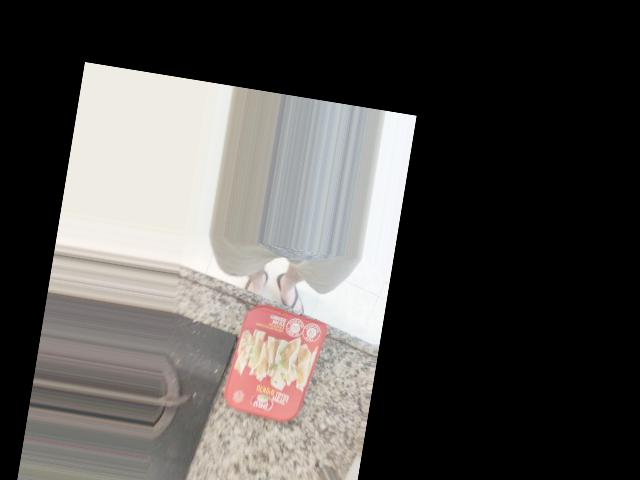cheese: (220, 300, 327, 421)
